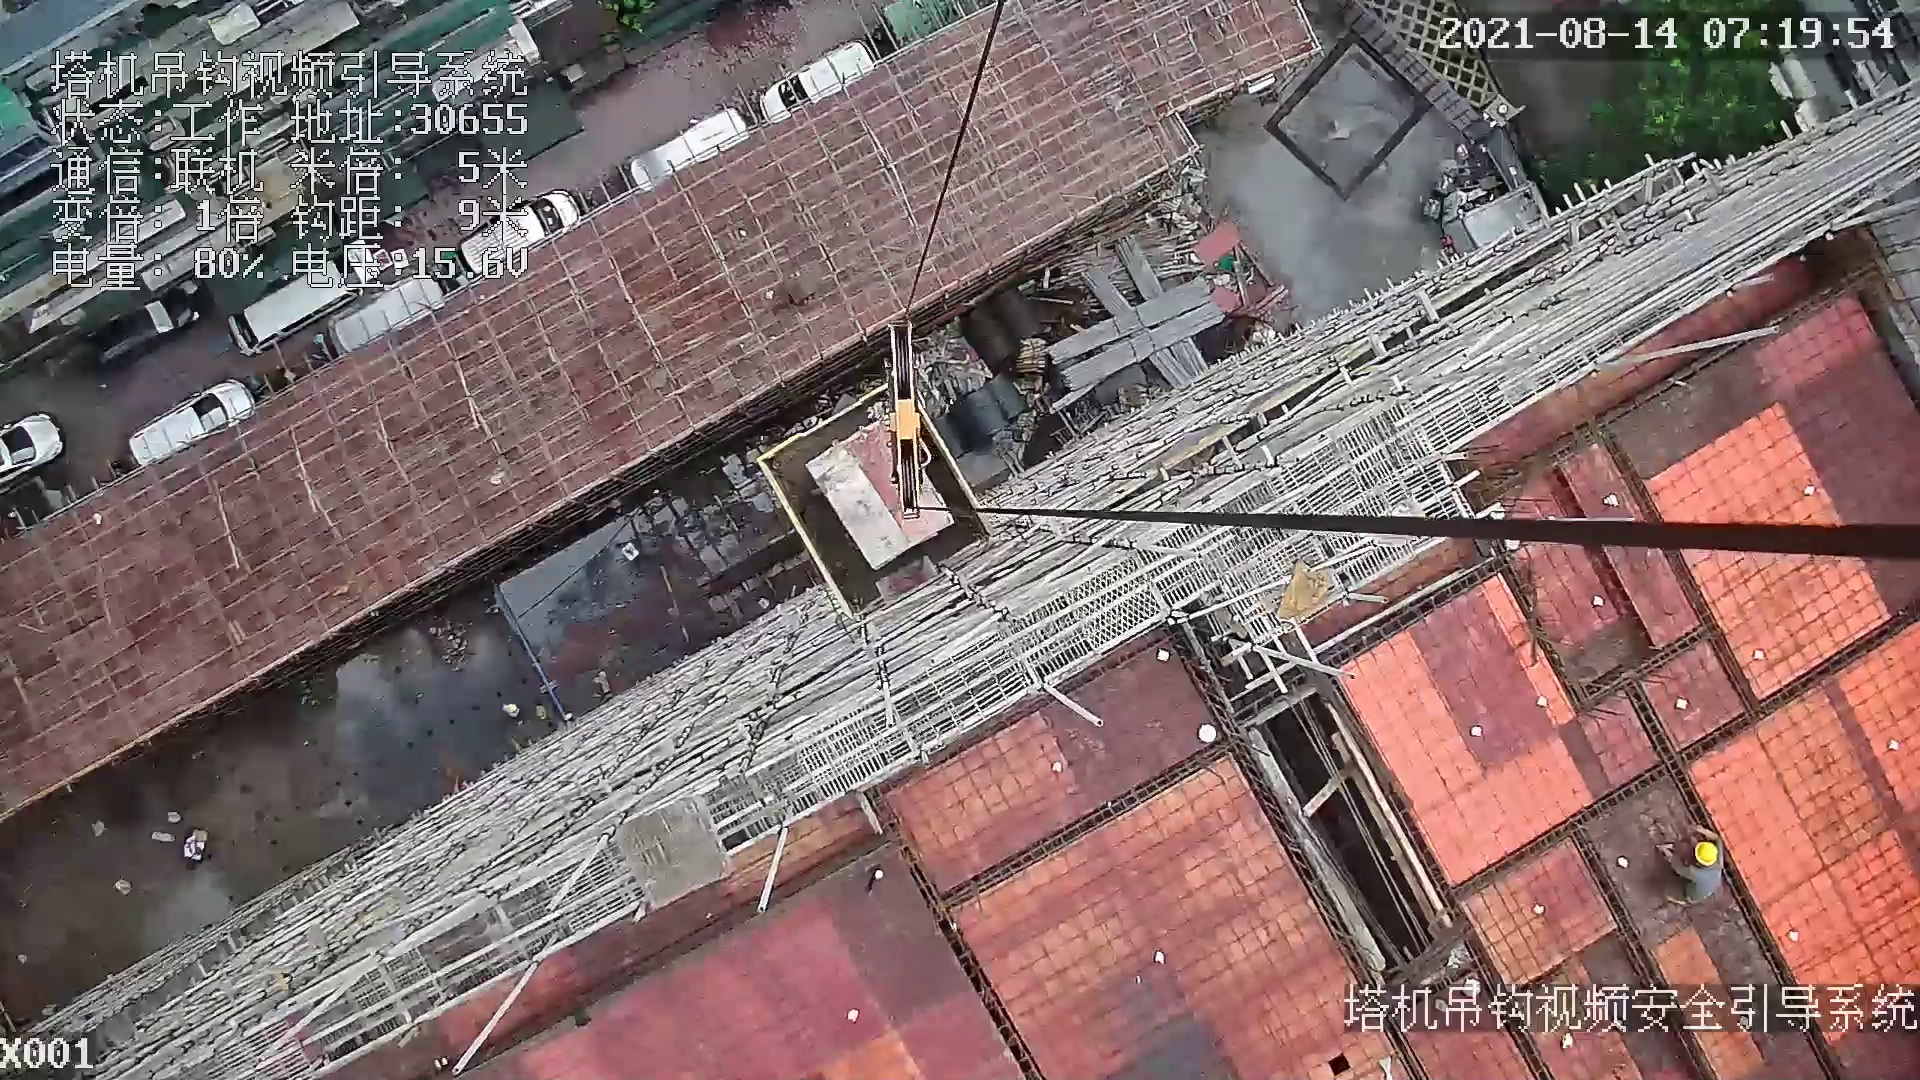helmet: (1694, 837, 1719, 872)
hook: (876, 317, 937, 530)
person: (1660, 818, 1728, 919)
